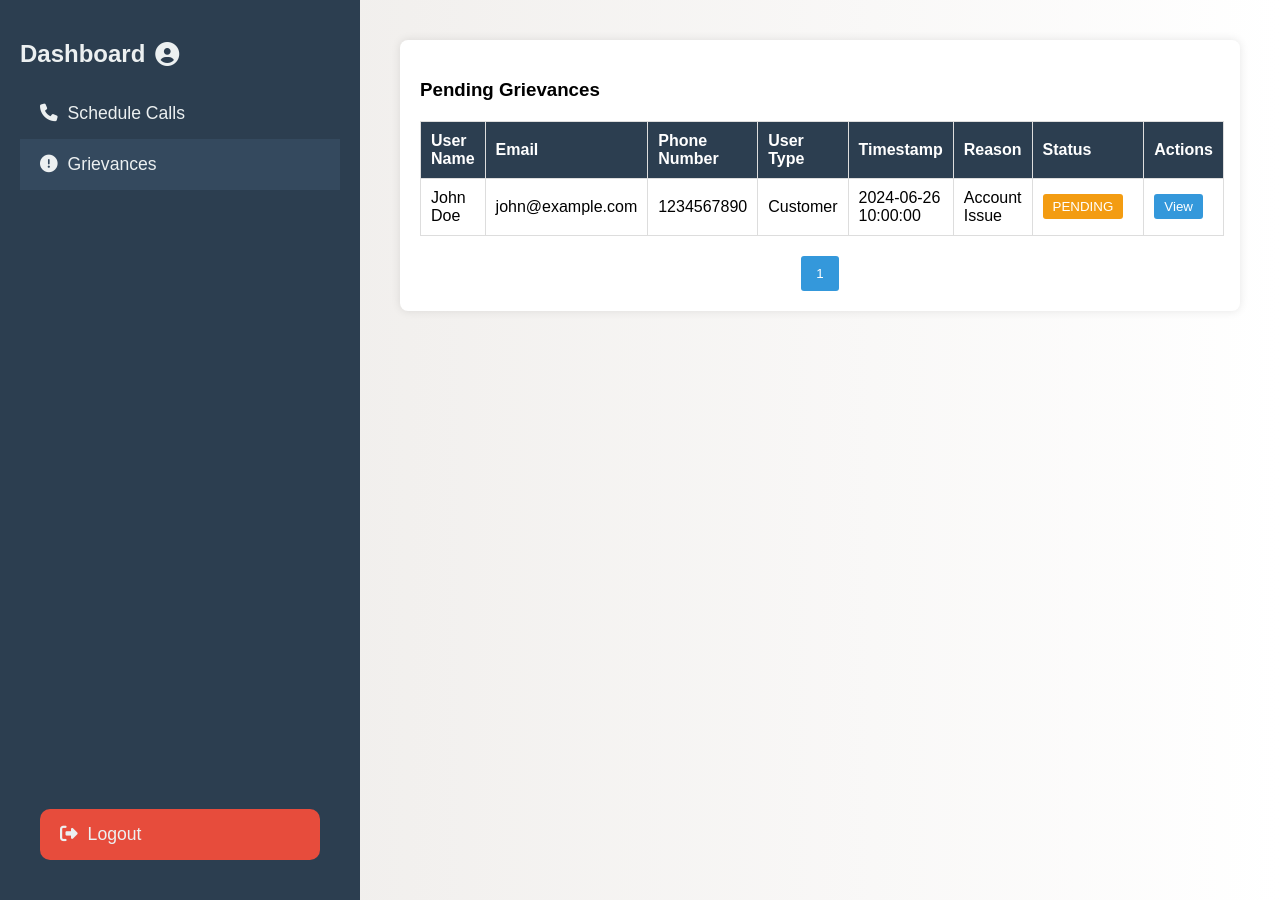
Test: Grievances Component › resolves grievance and updates status
The width and height of the screenshot is (1280, 900).
Click the button "View".
click(1179, 207)  # box [1154,194,1203,219]
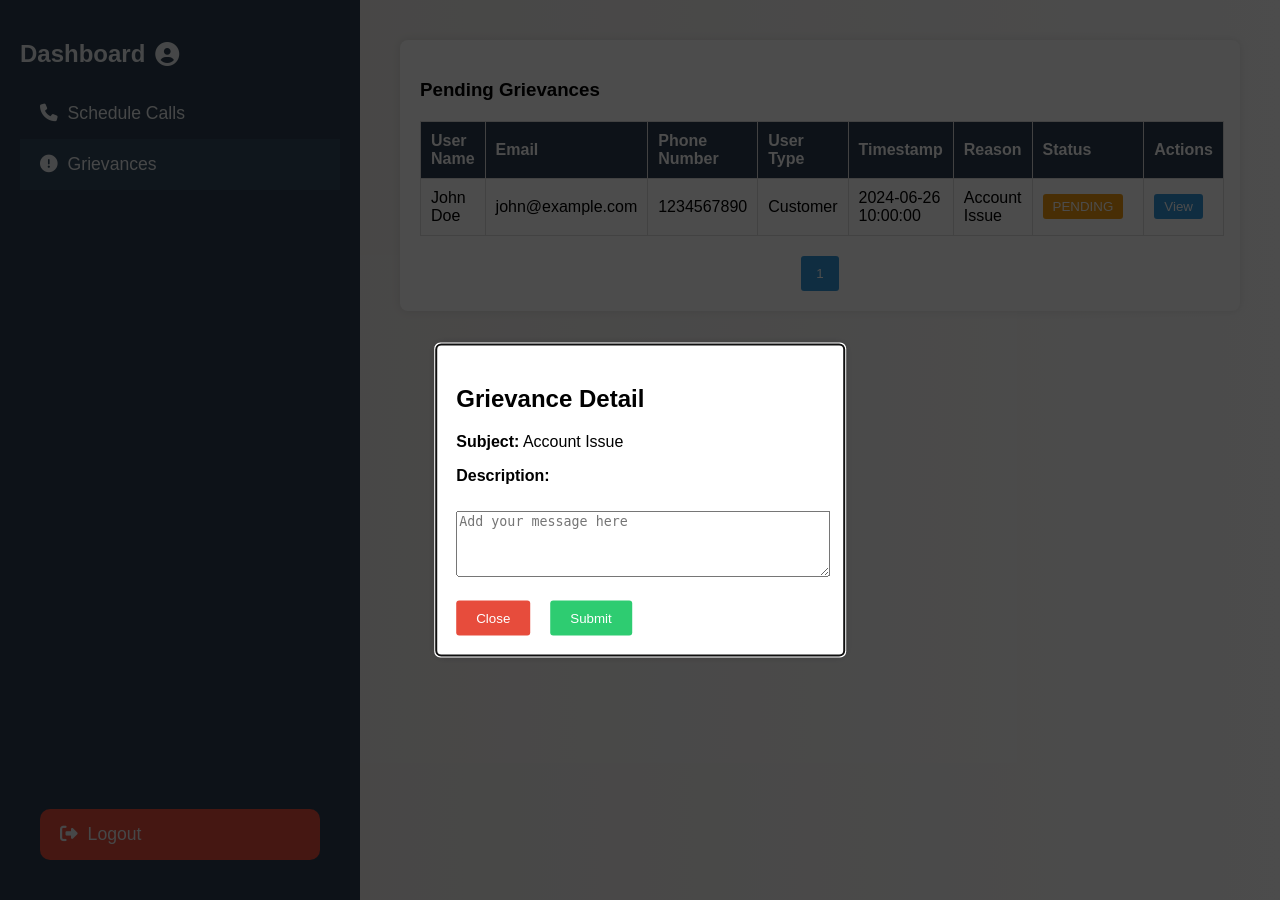
Type "Resolved issue" into the text box with placeholder "Add your message here".
click(643, 543); type("Resolved issue")  # box [456,510,830,576]
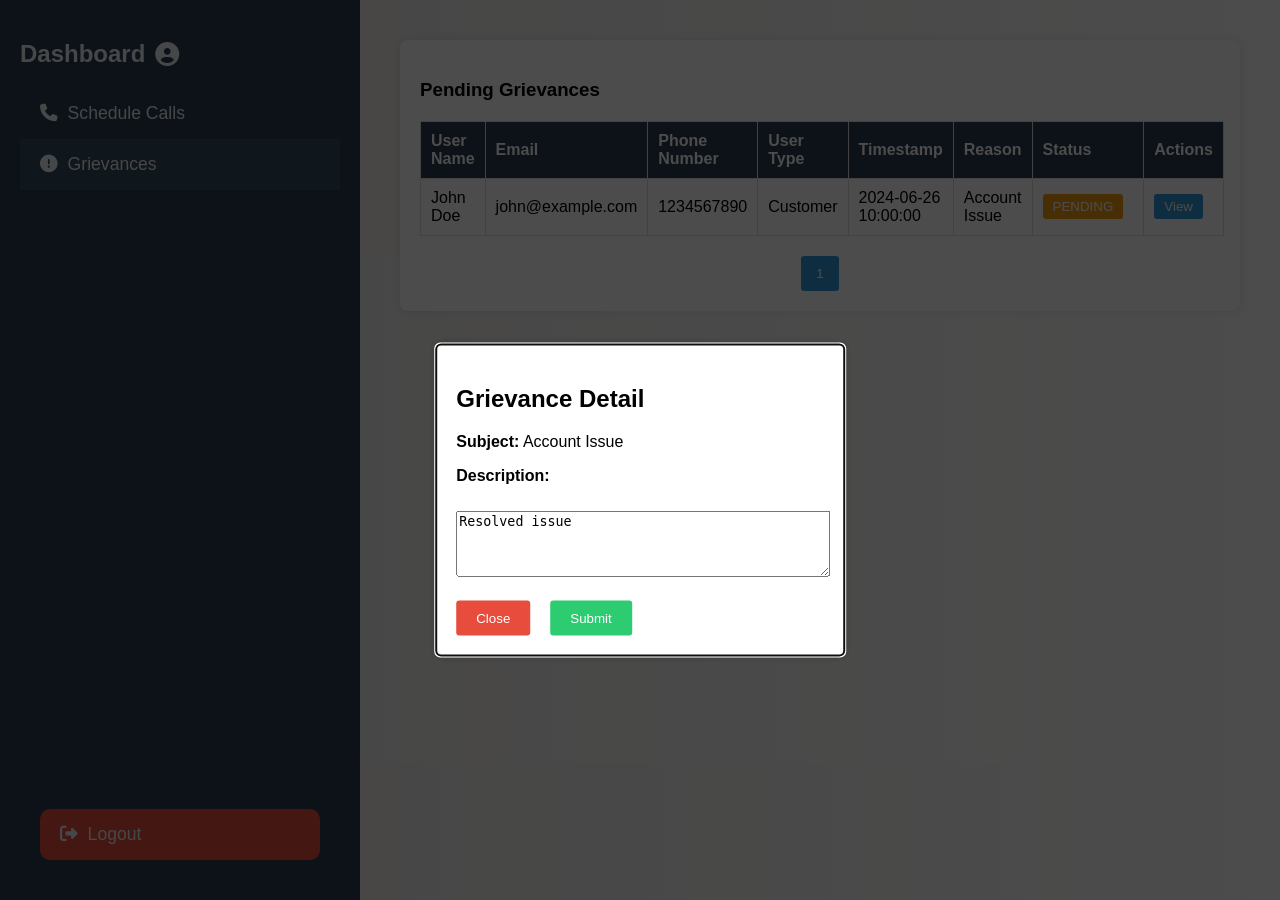
Click the button "Submit".
click(591, 618)  # box [550,600,632,635]
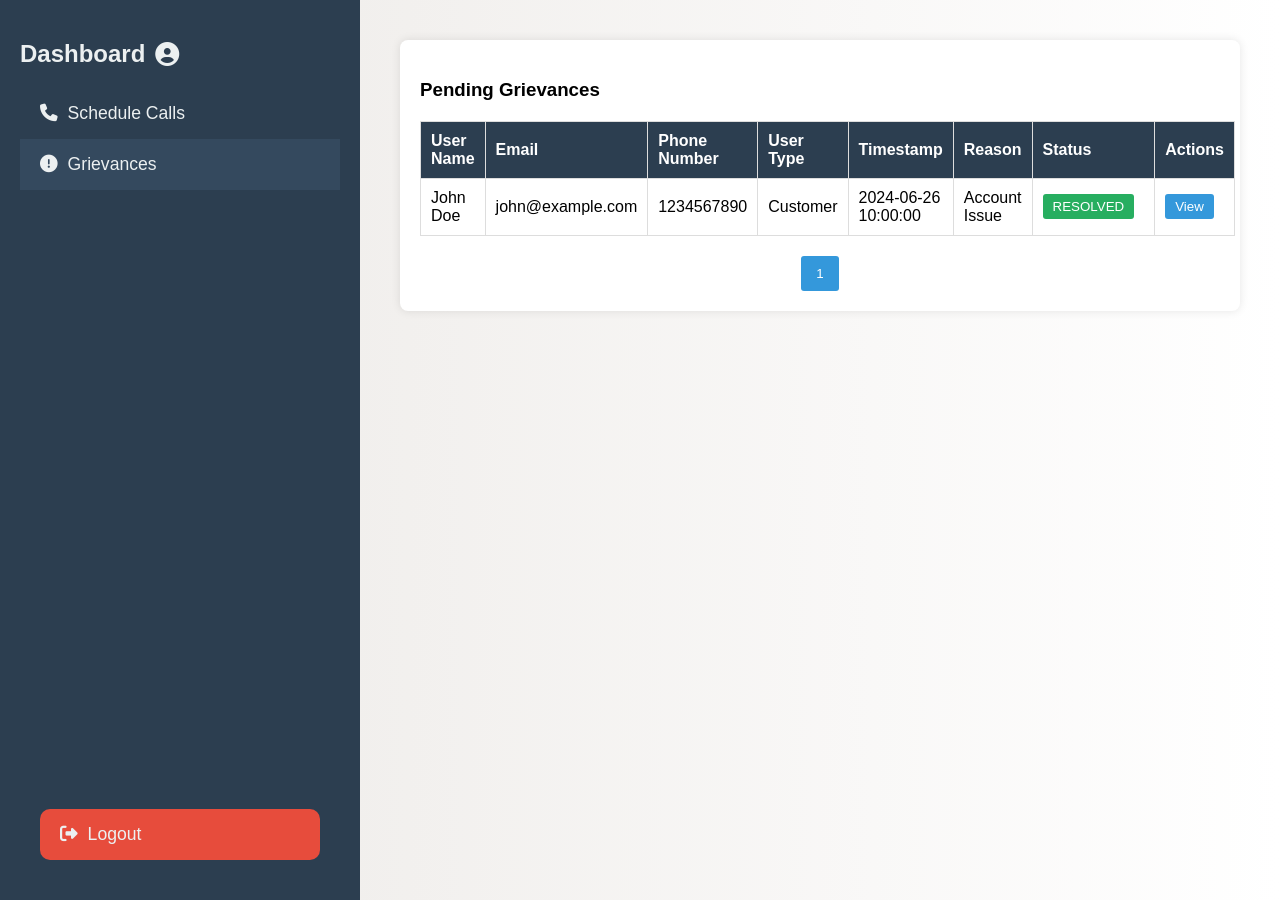
Now the button "RESOLVED" is shown, box [1043,194,1134,219]
